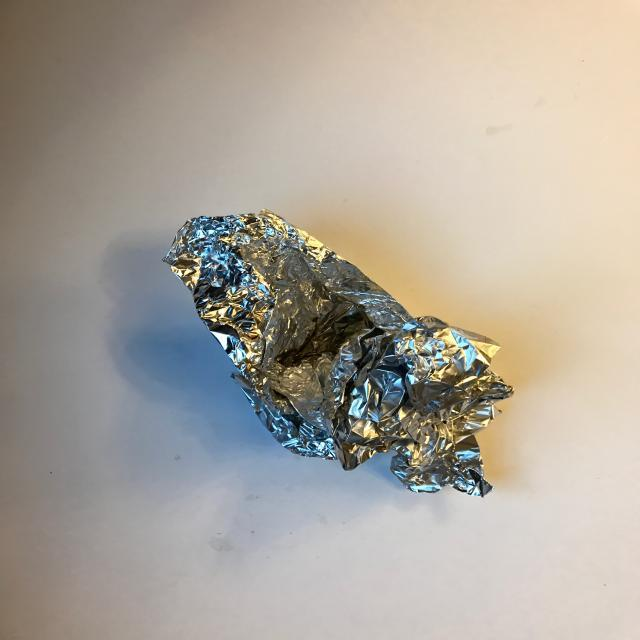metal: (162, 207, 514, 500)
